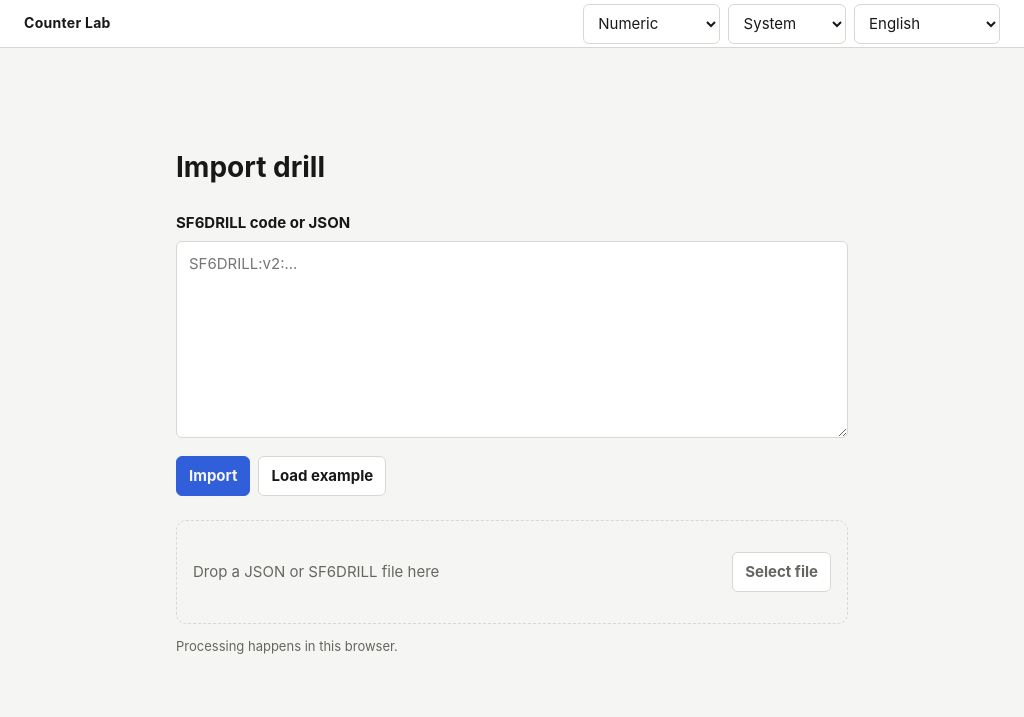
Scenario: App › opens import in a cancellable dialog without discarding the current drill
Click the button "Load example" at (322, 476), box x1=258 y1=456 x2=386 y2=496
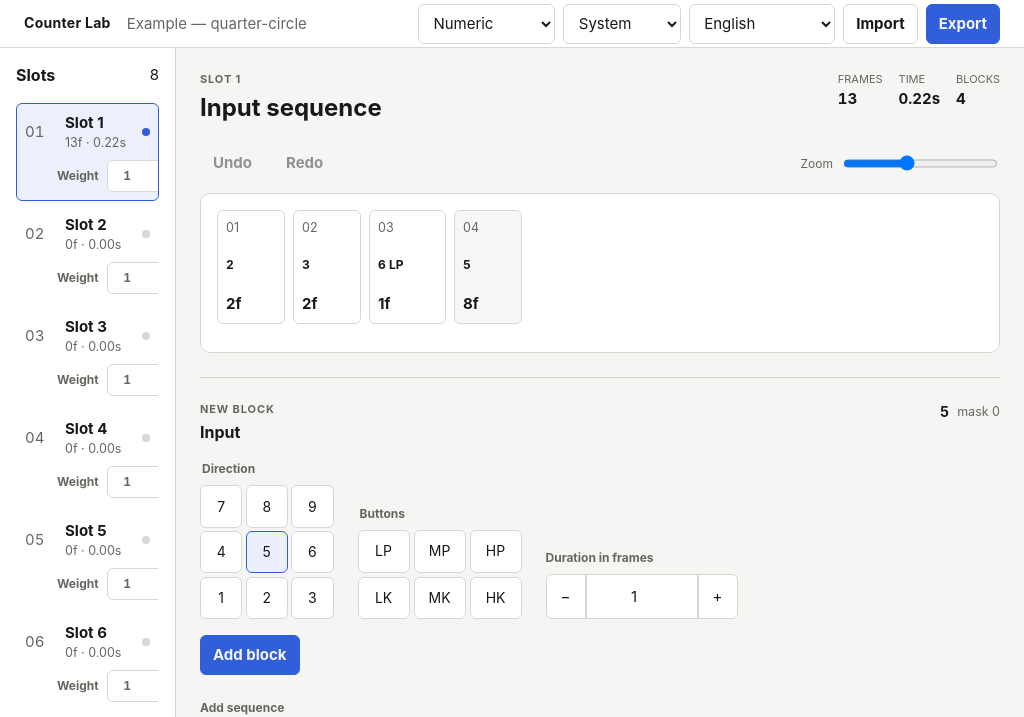
Click the button "Import" at (880, 24), box x1=843 y1=4 x2=918 y2=44
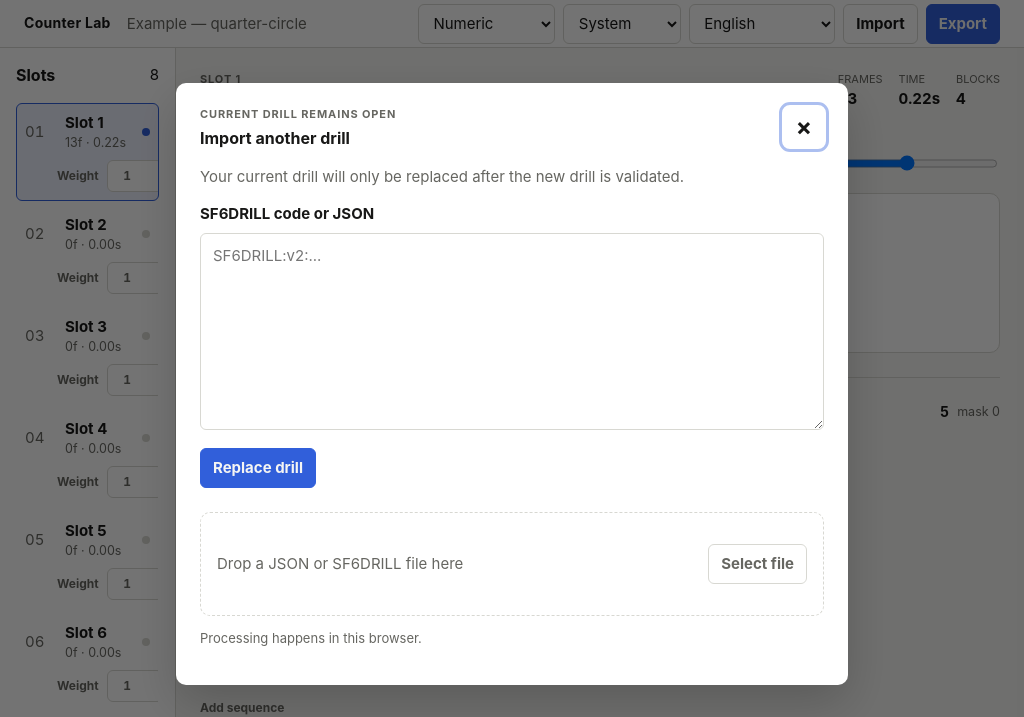
Check: the text "Example — quarter-circle" is shown, box x1=127 y1=13 x2=307 y2=34
Check: the dialog "Import another drill" is shown, box x1=176 y1=83 x2=848 y2=685
Click the button named "Cancel import" at (804, 127), box x1=784 y1=107 x2=824 y2=147
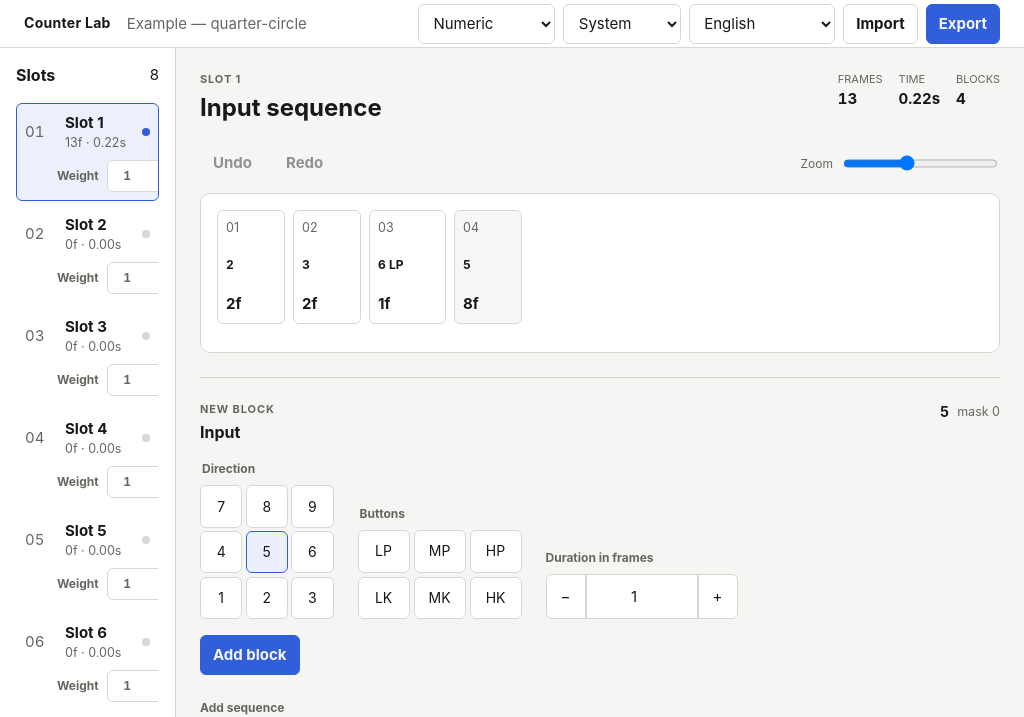
Check: the heading "Input sequence" is shown, box x1=200 y1=91 x2=382 y2=126
Check: the text "Example — quarter-circle" is shown, box x1=127 y1=13 x2=307 y2=34
Check: the heading "Import another drill" is gone
